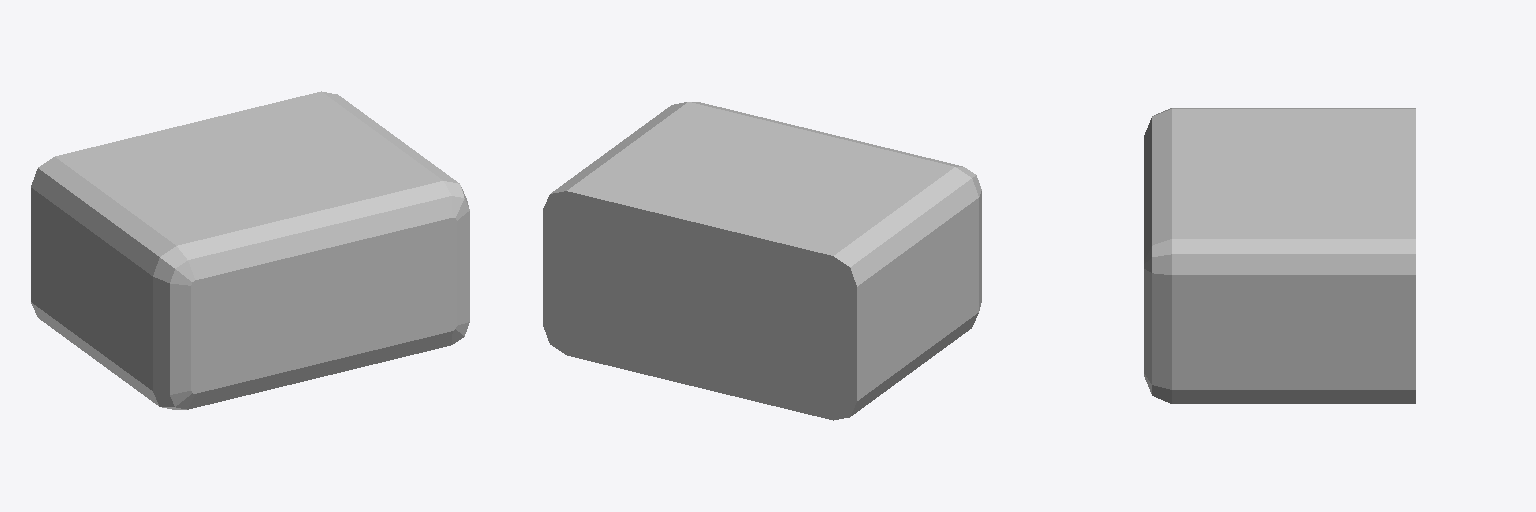
The model's file is 100_ShortWall.obj.
3 renders of one model, left to right at view 1: azimuth 30°, elevation 25°; view 2: azimuth 150°, elevation 25°; view 3: azimuth 270°, elevation 25°, orthographic.
Parts seen in each view (by area): view 1: ShortWall_Plane.868; view 2: ShortWall_Plane.868; view 3: ShortWall_Plane.868.
Part boxes in pixels (left/top/right/bottom): ShortWall_Plane.868: left=31, top=91, right=469, bottom=409; ShortWall_Plane.868: left=543, top=102, right=981, bottom=420; ShortWall_Plane.868: left=1144, top=108, right=1415, bottom=403.
Size of the model in its own units: 4 by 2 by 3.